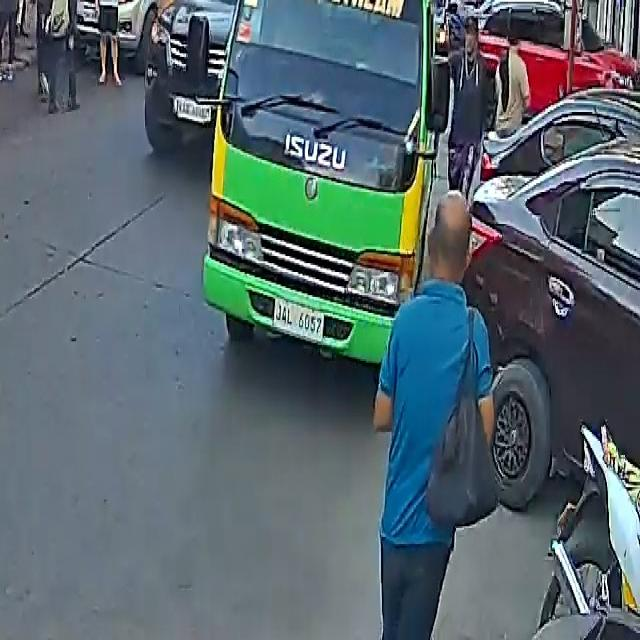car: (472, 150, 640, 508), (474, 0, 640, 117), (150, 0, 256, 156), (76, 0, 194, 50)
